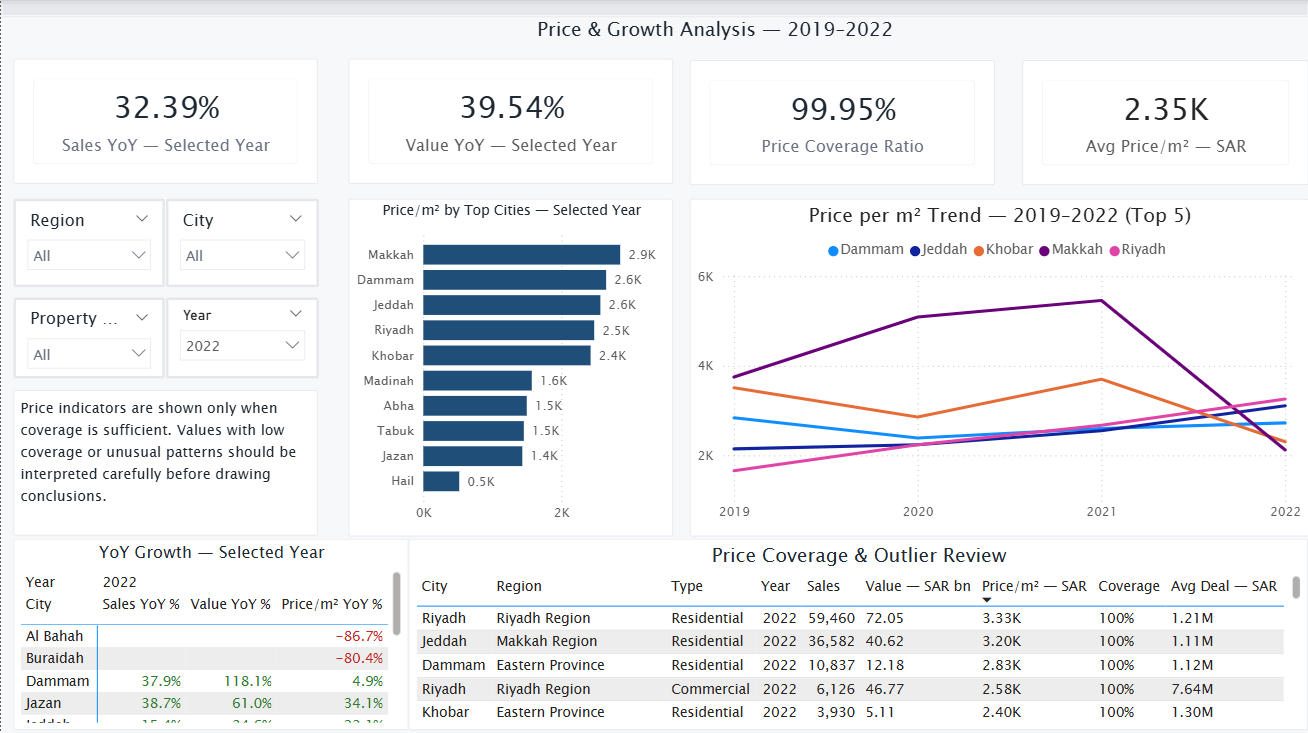

This screenshot's page, from the dashboard's own definition file:
{"tool":"powerbi","page":{"name":"Price & Growth Analysis","canvas":[1280,720],"ordinal":5},"visuals":[{"type":"shape","box":[0,0,1280.3,17.1],"z":0},{"type":"cardVisual","fields":{"Data":["analysis_scope.Weighted Avg Price per m2 2019-2022"]},"box":[999.1,58.7,280,122.3],"z":1000},{"type":"cardVisual","fields":{"Data":["analysis_scope.Market Value YoY %"]},"box":[339.9,57.5,317.9,122.3],"z":2000},{"type":"cardVisual","fields":{"Data":["analysis_scope.Sales YoY %"]},"box":[12.3,57.6,297.8,122.1],"z":3000},{"type":"cardVisual","fields":{"Data":["analysis_scope.Price Coverage Ratio 2019-2022"]},"box":[673.8,58.7,298.4,122.3],"z":4000},{"type":"clusteredBarChart","title":"Price/m² by Top Cities — Selected Year","fields":{"Category":["dim_city.city"],"Y":["analysis_scope.Weighted Avg Price per m2 2019-2022"]},"box":[339.9,194.4,317.9,330.2],"z":5000},{"type":"lineChart","title":"Price per m² Trend — 2019–2022 (Top 5)","fields":{"Category":["dim_date.year"],"Y":["fact_real_estate_quarterly.Weighted Avg Price per m2"],"Series":["dim_city.city"]},"box":[673.8,194.4,605.3,330.2],"z":6000},{"type":"pivotTable","title":"YoY Growth — Selected Year","fields":{"Rows":["dim_city.city"],"Columns":["dim_date.year"],"Values":["analysis_scope.Sales YoY % Clean","analysis_scope.Market Value YoY % Clean","analysis_scope.Price per m2 YoY %"]},"box":[12.2,527,386.4,187.1],"z":7000},{"type":"tableEx","title":"Price Coverage & Outlier Review","fields":{"Values":["dim_city.city","dim_city.region_en","dim_property_type.property_type","dim_date.year","Sum(fact_real_estate_quarterly.sales_transactions)","fact_real_estate_quarterly.Market Value Billion","fact_real_estate_quarterly.Weighted Avg Price per m2","analysis_scope.Price Coverage Ratio","fact_real_estate_quarterly.Average Transaction Value"]},"box":[398.6,527,880,187.1],"z":8000},{"type":"slicer","fields":{"Values":["dim_date.year"]},"box":[161.9,290.9,149.6,79.6],"z":9000},{"type":"slicer","fields":{"Values":["dim_city.region_en"]},"box":[12.3,194.9,148.2,86.4],"z":10000},{"type":"slicer","fields":{"Values":["dim_city.city"]},"box":[161.9,194.9,149.6,86.4],"z":11000},{"type":"slicer","fields":{"Values":["dim_property_type.property_type"]},"box":[12.3,290.9,148.2,79.6],"z":12000},{"type":"textbox","box":[12.3,381.5,297.8,142.7],"z":13000},{"type":"textbox","box":[520.1,9.6,404.8,49.4],"z":14000}]}

Visuals, with their boxes in screenshot pixels (x1, y1, x2, y2), scaled from the page's 1280x720 canvas onto the 1308x733 screenshot:
shape: x1=0 y1=0 x2=1307 y2=17
cardVisual - analysis_scope.Weighted Avg Price per m2 2019-2022: x1=1021 y1=60 x2=1307 y2=184
cardVisual - analysis_scope.Market Value YoY %: x1=347 y1=59 x2=672 y2=183
cardVisual - analysis_scope.Sales YoY %: x1=13 y1=59 x2=317 y2=183
cardVisual - analysis_scope.Price Coverage Ratio 2019-2022: x1=689 y1=60 x2=993 y2=184
"Price/m² by Top Cities — Selected Year" clusteredBarChart: x1=347 y1=198 x2=672 y2=534
"Price per m² Trend — 2019–2022 (Top 5)" lineChart: x1=689 y1=198 x2=1307 y2=534
"YoY Growth — Selected Year" pivotTable: x1=12 y1=537 x2=407 y2=727
"Price Coverage & Outlier Review" tableEx: x1=407 y1=537 x2=1307 y2=727
slicer - dim_date.year: x1=165 y1=296 x2=318 y2=377
slicer - dim_city.region_en: x1=13 y1=198 x2=164 y2=286
slicer - dim_city.city: x1=165 y1=198 x2=318 y2=286
slicer - dim_property_type.property_type: x1=13 y1=296 x2=164 y2=377
textbox: x1=13 y1=388 x2=317 y2=534
textbox: x1=531 y1=10 x2=945 y2=60
